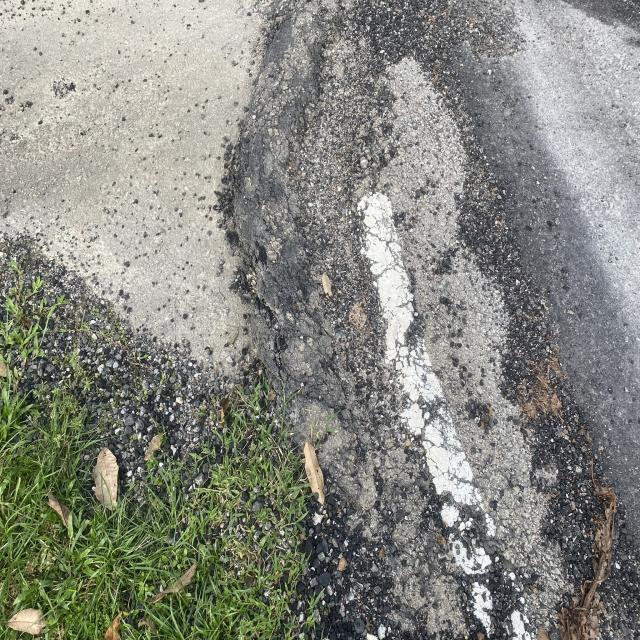Pothole: (190, 136, 318, 373), (458, 210, 544, 468)
